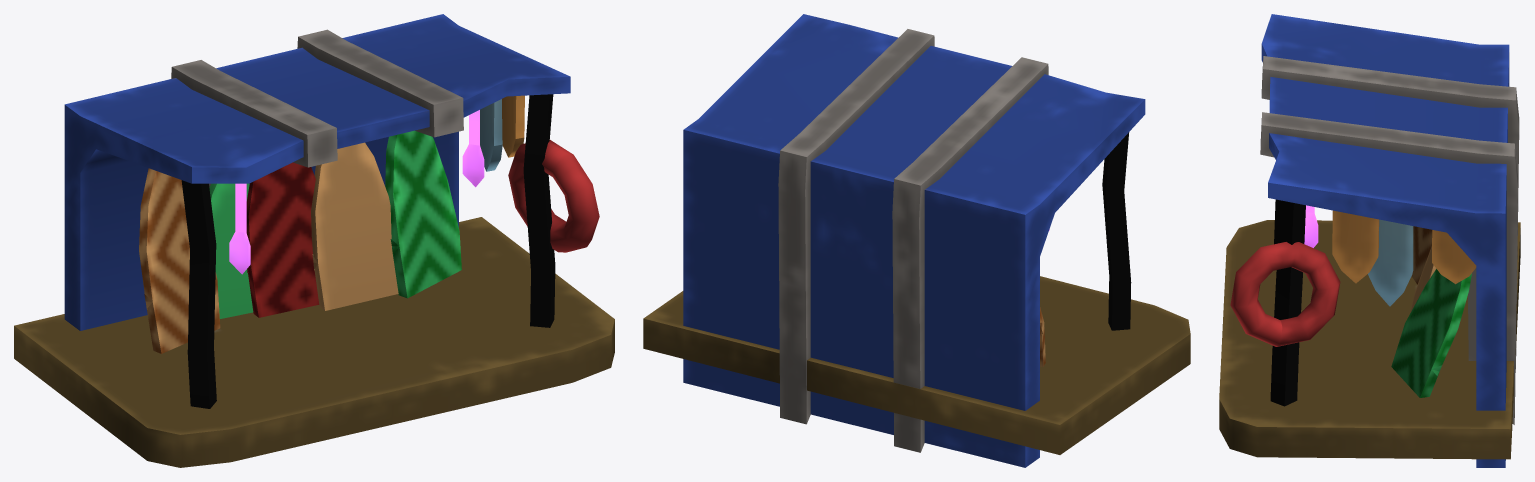
The model's file is modul_lagoon_2.fbx.
3 renders of one model, left to right at view 1: azimuth 30°, elevation 25°; view 2: azimuth 150°, elevation 25°; view 3: azimuth 270°, elevation 25°, orthographic. The views are drawn at different scales.
Visible parts, largest first — view 1: modul_lagoon_2; view 2: modul_lagoon_2; view 3: modul_lagoon_2.
Boxes of the visible parts, bbox=[...] form: modul_lagoon_2: bbox=[14, 14, 614, 467]; modul_lagoon_2: bbox=[643, 14, 1190, 467]; modul_lagoon_2: bbox=[1219, 14, 1520, 467].
Size of the model in its own units: 690 by 460 by 420.
1 material, 1 textured.
